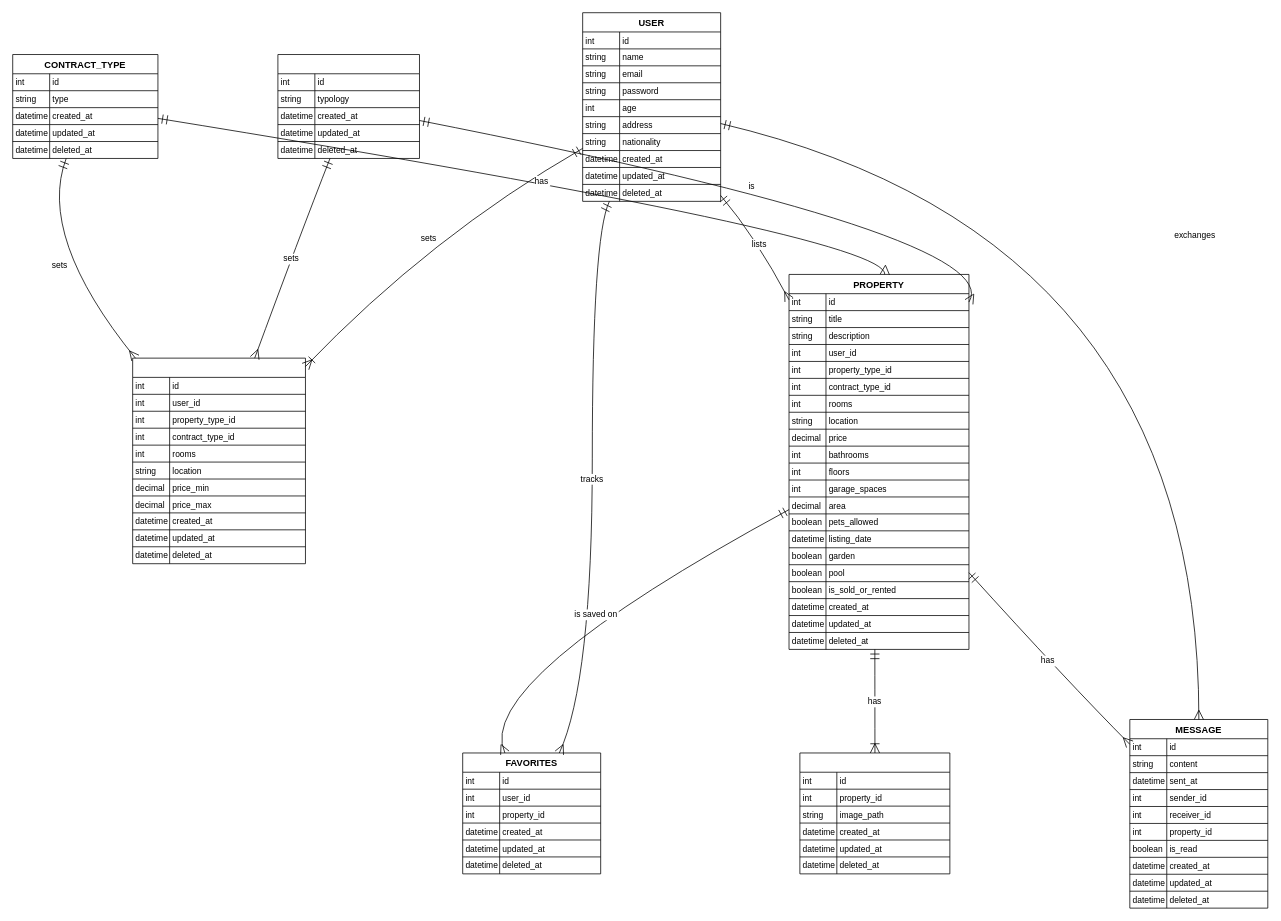
Image size: 1281x921. Some labels were removed from this diagram. The shapes that lost their labels are listed below. From the top down, each one's box as (x1, y1, x2, y2) in pixels, then its label:
(277, 54, 419, 158): PROPERTY_TYPE
(132, 357, 305, 564): PROPERTY_ALERT
(799, 752, 950, 874): PROPERTY_IMAGE
